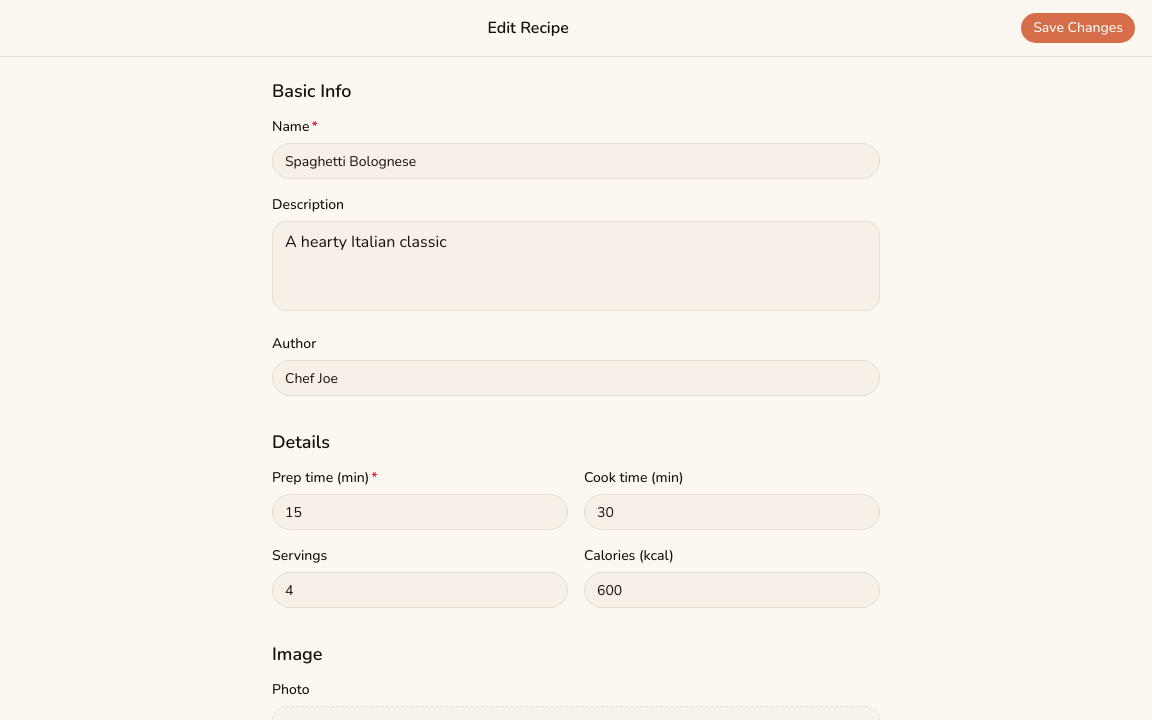
EditRecipeForm › validation › shows error when no valid ingredients exist
Click the button "Save Changes" at (1078, 28), box top-left (1020, 12), bottom-right (1136, 44)
(page scrolled)
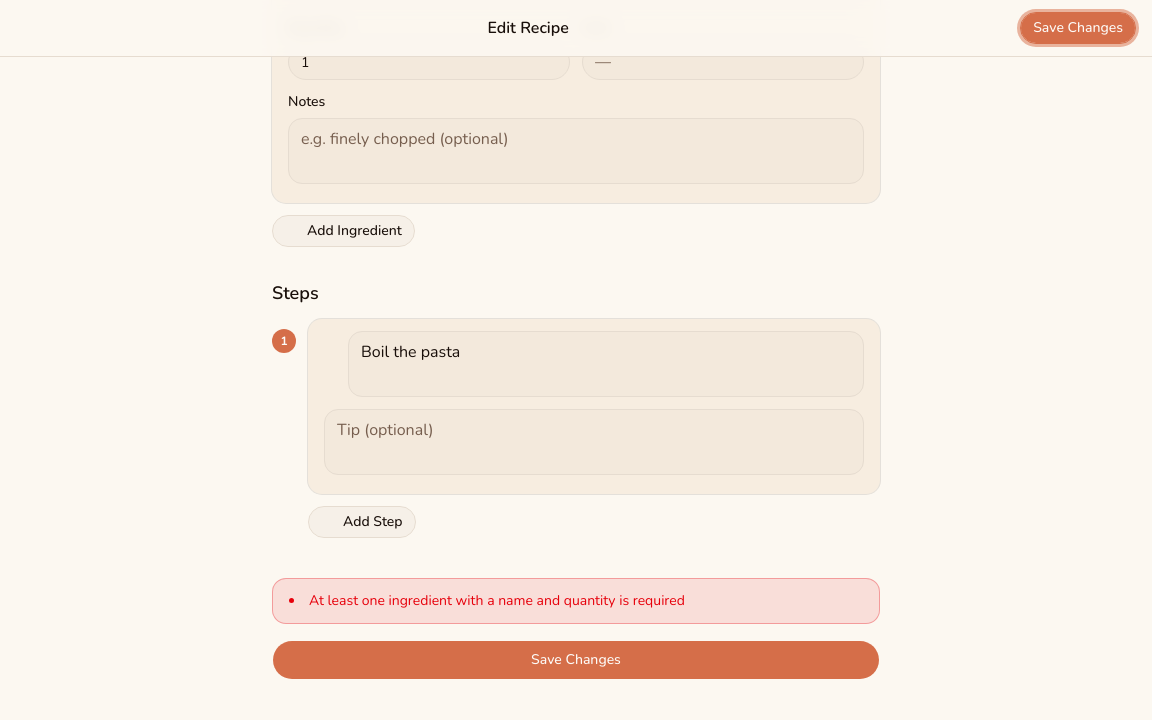
Result: the list item "At least one ingredient with a name and quantity is required" is shown at top-left (309, 591), bottom-right (685, 610)
